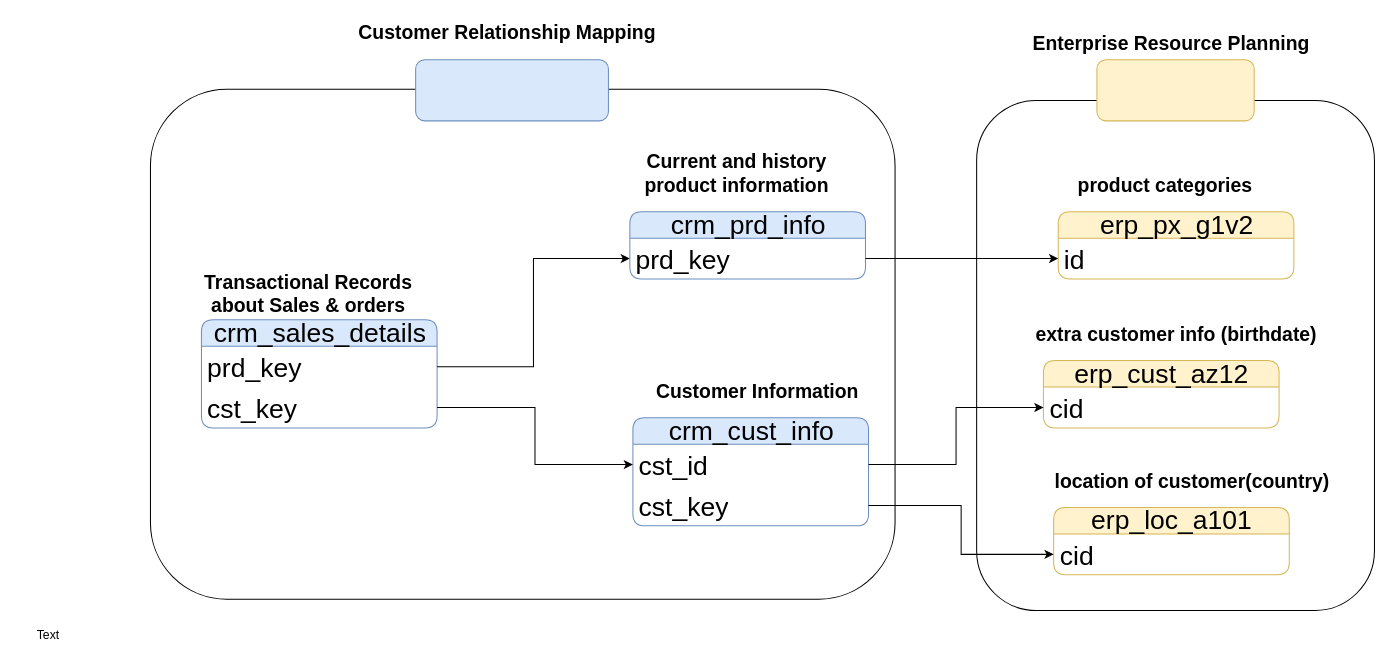
This 1392x667 diagram has some shape labels left out. Here are the shapes that lost their labels. From the top down, the centre of each, then its label:
At (511,90): "CRM".
At (1175,90): "ERP".
